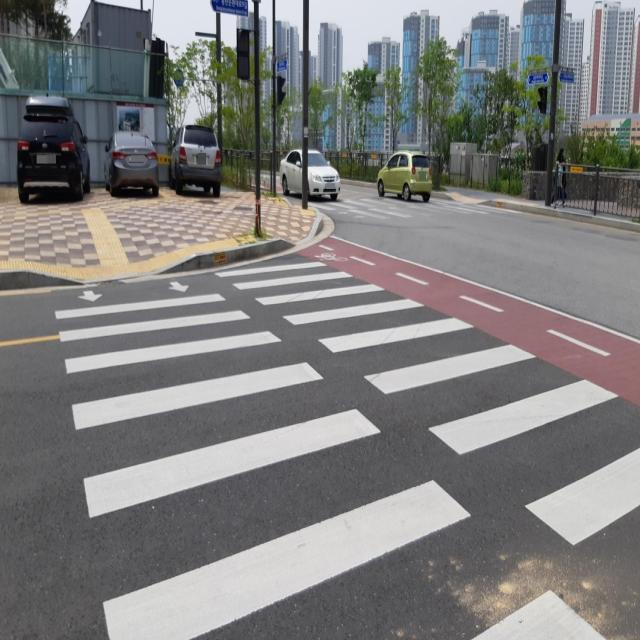횡단보도: (52, 257, 640, 640), (312, 195, 482, 214)
